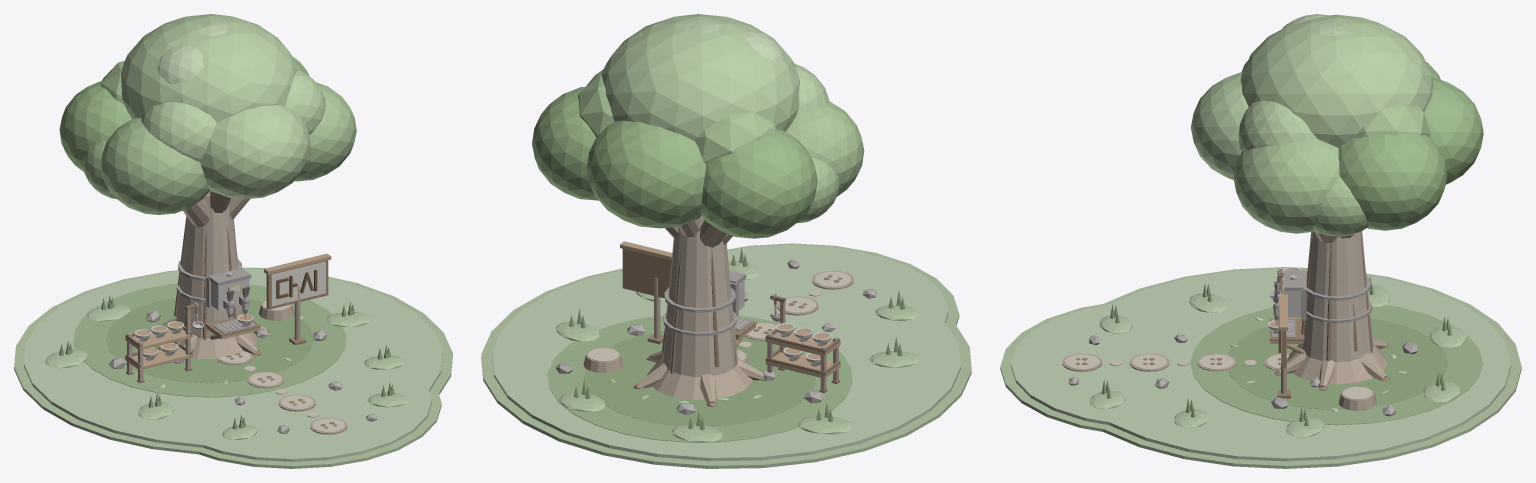
File: dashi-server.glb
The picture shows the model from 3 angles, left to right: view 1: azimuth 30°, elevation 25°; view 2: azimuth 150°, elevation 25°; view 3: azimuth 270°, elevation 25°; orthographic projection. The views are drawn at different scales.
Visible parts, largest first — view 1: part_12, part_11, part_07, part_09, part_05, part_02, part_10, part_15, part_03, part_04, part_13, part_19 (+6 smaller); view 2: part_12, part_03, part_11, part_09, part_02, part_07, part_15, part_05, part_10, part_04, part_13, part_17 (+4 smaller); view 3: part_12, part_11, part_03, part_09, part_07, part_02, part_05, part_15, part_10, part_04, part_17, part_06 (+4 smaller).
Part boxes in pixels (box(x1,y1,x2,y2)): part_12: box(24, 269, 442, 461); part_11: box(121, 14, 325, 360); part_07: box(83, 61, 356, 383); part_09: box(14, 267, 452, 468); part_05: box(73, 283, 346, 397); part_02: box(59, 295, 394, 429); part_10: box(127, 190, 347, 434); part_15: box(176, 194, 242, 338); part_03: box(59, 57, 309, 171); part_04: box(125, 217, 336, 428); part_13: box(125, 253, 331, 370); part_19: box(134, 262, 325, 360); part_12: box(492, 245, 960, 461); part_03: box(532, 86, 817, 238); part_11: box(601, 14, 829, 400); part_09: box(481, 243, 971, 468); part_02: box(569, 248, 905, 430); part_07: box(578, 69, 864, 382); part_15: box(662, 216, 737, 376); part_05: box(547, 315, 852, 442); part_10: box(583, 218, 853, 403); part_04: box(622, 249, 842, 406); part_13: box(620, 241, 840, 378); part_17: box(587, 271, 851, 361); part_12: box(1011, 268, 1510, 461); part_11: box(1191, 14, 1433, 389); part_03: box(1338, 61, 1483, 230); part_09: box(1000, 267, 1521, 468); part_07: box(1229, 103, 1430, 393); part_02: box(1101, 276, 1452, 426); part_05: box(1190, 305, 1482, 425); part_15: box(1300, 231, 1373, 362); part_10: box(1062, 231, 1387, 410); part_04: box(1076, 237, 1389, 398); part_17: box(1065, 354, 1372, 399); part_06: box(1272, 270, 1372, 337).
Bounding box in the file's own units: 11.2 × 9 × 12.4.
